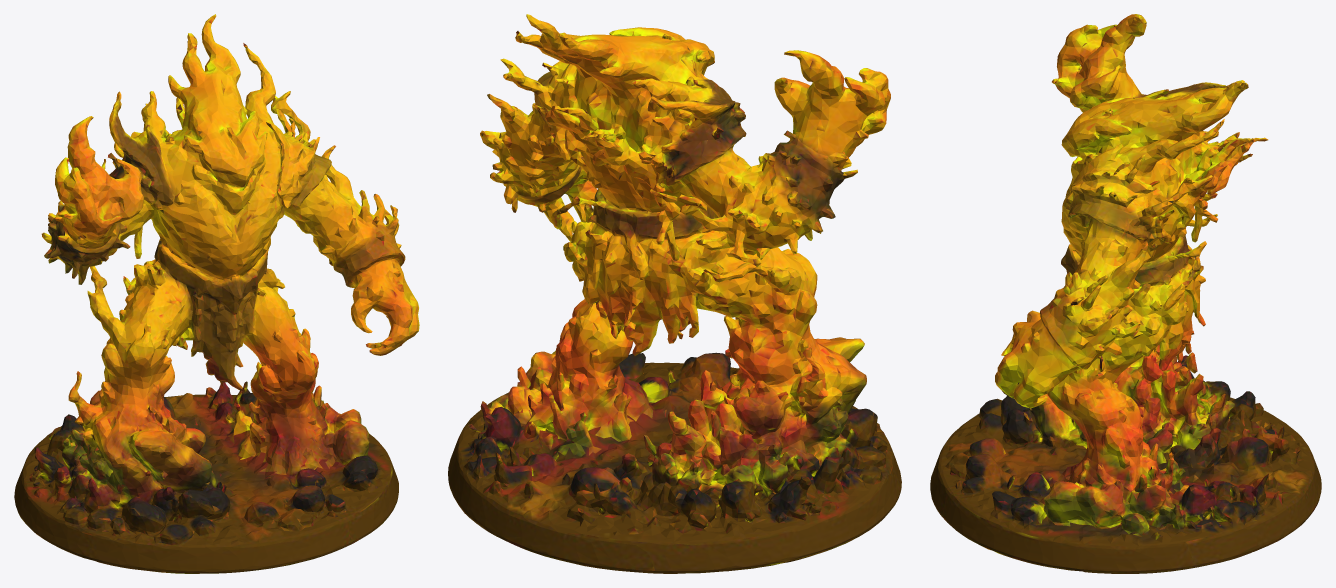
The model's file is elemental_fogo.glb.
3 views of the same model, side by side, from view 1: azimuth 30°, elevation 25°; view 2: azimuth 150°, elevation 25°; view 3: azimuth 270°, elevation 25° (orthographic). The views are drawn at different scales.
Visible parts, largest first — view 1: tmpmipshrgz.ply; view 2: tmpmipshrgz.ply; view 3: tmpmipshrgz.ply.
Part boxes in pixels (<box>): tmpmipshrgz.ply: <box>14,14,419,573</box>; tmpmipshrgz.ply: <box>448,14,901,573</box>; tmpmipshrgz.ply: <box>930,14,1321,573</box>.
Bounding box in the file's own units: 1.67 × 1.96 × 1.57.
Materials: 1 (1 with a texture image).
